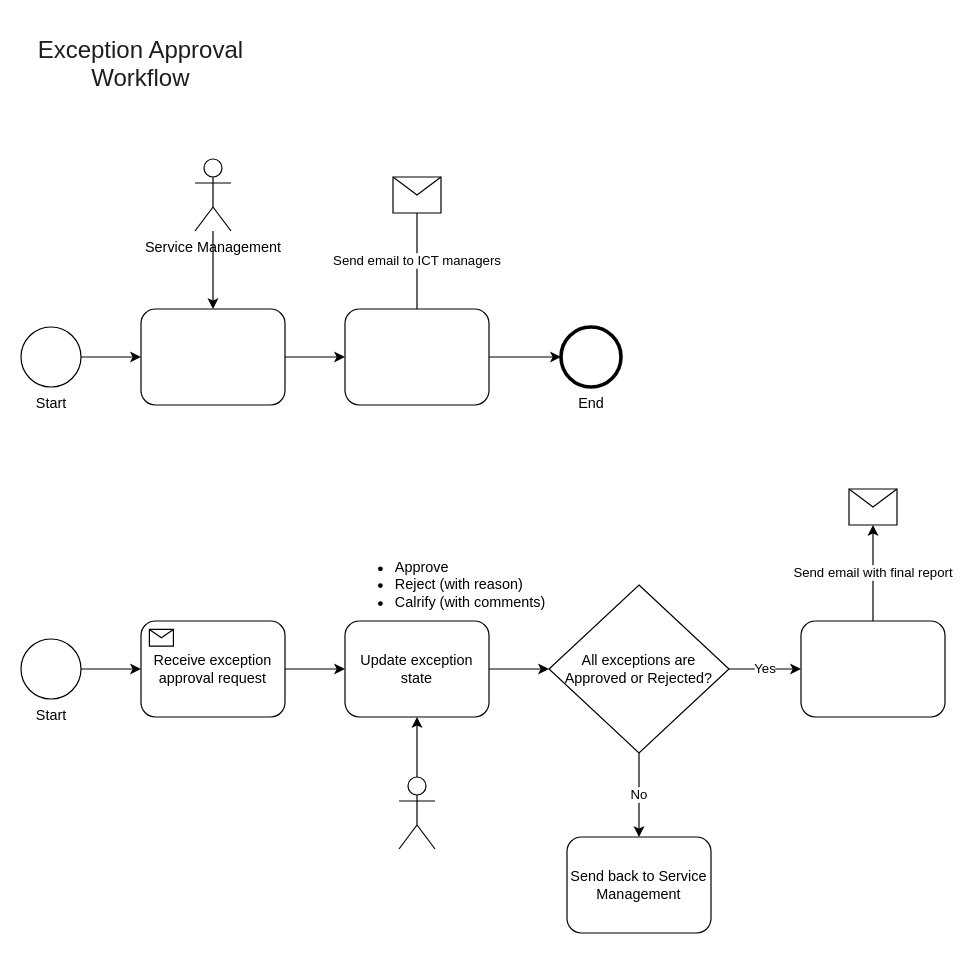
The diagram is 973 pixels wide and 954 high, and some of its shapes have lost their labels. The centre of each missing label's shape, as x and y in pixels:
Finalise state: point (872, 668)
ICT manager: point (416, 812)
Request for exception approval: point (416, 356)
Update exceptions in SharePoint list: point (212, 356)
